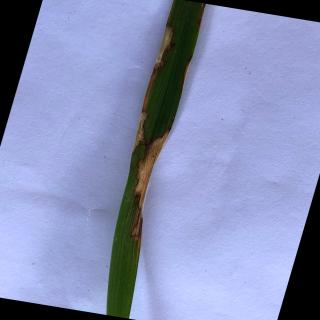Hawar-Daun: (128, 132, 170, 240), (153, 23, 179, 70), (134, 111, 151, 149)
